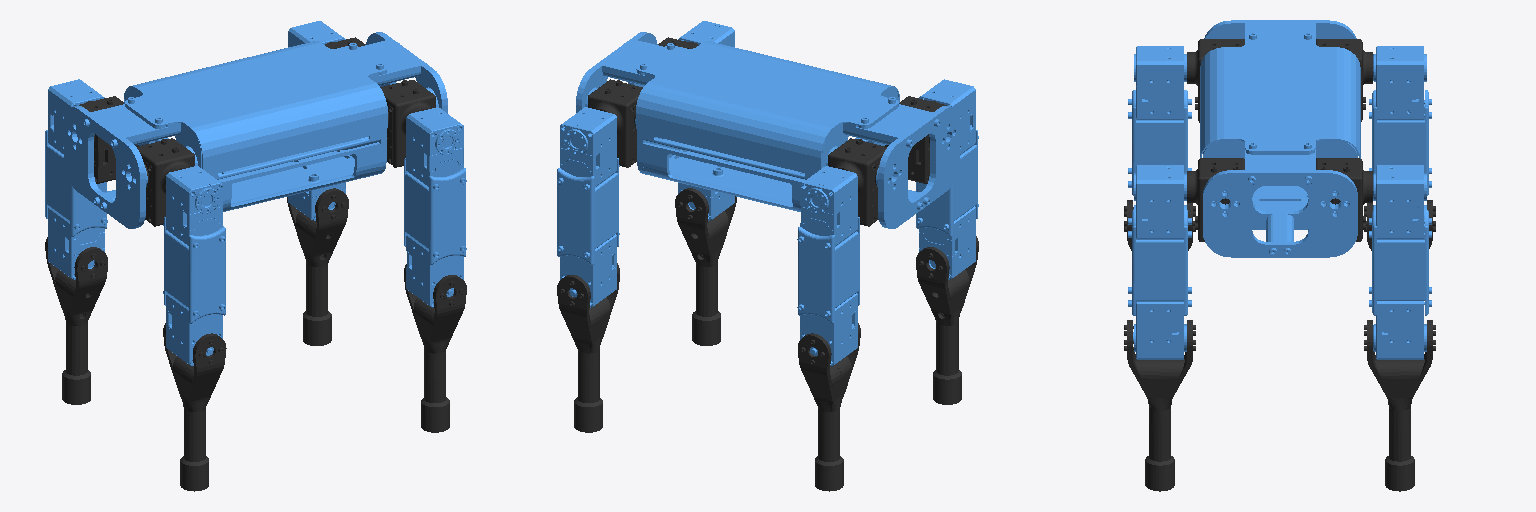
URDF robot description (spotmicro_proprio_v5):
<?xml version="1.0" encoding="utf-8"?>
<!-- This URDF was automatically created by SolidWorks to URDF Exporter! Originally created by [author] ([email redacted])
     Commit Version: 1.6.0-1-g15f4949  Build Version: 1.6.7594.29634
     For more information, please see http://wiki.ros.org/sw_urdf_exporter -->
<robot
  name="spotmicro_proprio_v5">
  <link
    name="chassis">
    <inertial>
      <origin
        xyz="-0.0004446 -6.2306E-06 0.00028704"
        rpy="0 0 0" />
      <mass
        value="0.84814" />
      <inertia
        ixx="0.0011573"
        ixy="-7.5974E-08"
        ixz="-2.7758E-07"
        iyy="0.00099291"
        iyz="1.0649E-08"
        izz="0.0015395" />
    </inertial>
    <visual>
      <origin
        xyz="0 0 0"
        rpy="0 0 0" />
      <geometry>
        <mesh
          filename="package://spotmicro_proprio_v5/meshes/chassis.STL" />
      </geometry>
     <material name="light_blue">
       <color rgba="0.4 0.7 1 1"/>
     </material>
    </visual>
    <collision>
      <origin
        xyz="0 0 0"
        rpy="0 0 0" />
      <geometry>
        <mesh
          filename="package://spotmicro_proprio_v5/meshes/chassis.STL" />
      </geometry>
    </collision>
  </link>
  <link
    name="FR_hip">
    <inertial>
      <origin
        xyz="-0.0032526 -0.0094319 0.019337"
        rpy="0 0 0" />
      <mass
        value="0.10477" />
      <inertia
        ixx="2.9556E-05"
        ixy="-1.6557E-06"
        ixz="2.1529E-11"
        iyy="1.7077E-05"
        iyz="-3.5945E-08"
        izz="2.6993E-05" />
    </inertial>
    <visual>
      <origin
        xyz="0 0 0"
        rpy="0 0 0" />
      <geometry>
        <mesh
          filename="package://spotmicro_proprio_v5/meshes/FR_hip.STL" />
      </geometry>
     <material name="grey">
       <color rgba="0.25 0.25 0.25 1"/>
     </material>
    </visual>
    <collision>
      <origin
        xyz="0 0 0"
        rpy="0 0 0" />
      <geometry>
        <mesh
          filename="package://spotmicro_proprio_v5/meshes/FR_hip.STL" />
      </geometry>
    </collision>
  </link>
  <joint
    name="FR_hip_roll"
    type="revolute">
    <origin
      xyz="0.081 -0.039 0.009"
      rpy="1.5708 0 1.5708" />
    <parent
      link="chassis" />
    <child
      link="FR_hip" />
    <axis
      xyz="0 0 -1" />
    <limit
      lower="-1.57"
      upper="1.57"
      effort="3"
      velocity="8" />
  </joint>
  <link
    name="FR_upper_leg">
    <inertial>
      <origin
        xyz="1.19898674322272E-11 -0.0589999999892911 0.0234492015158459"
        rpy="0 0 0" />
      <mass
        value="0.186407498655757" />
      <inertia
        ixx="5.87035326015844E-05"
        ixy="1.99926341478042E-14"
        ixz="1.81354376032622E-14"
        iyy="3.64527307900986E-05"
        iyz="6.79432986779939E-08"
        izz="5.00787101141682E-05" />
    </inertial>
    <visual>
      <origin
        xyz="0 0 0"
        rpy="0 0 0" />
      <geometry>
        <mesh
          filename="package://spotmicro_proprio_v5/meshes/FR_upper_leg.STL" />
      </geometry>
     <material name="light_blue">
       <color rgba="0.4 0.7 1 1"/>
     </material>
    </visual>
    <collision>
      <origin
        xyz="0 0 0"
        rpy="0 0 0" />
      <geometry>
        <mesh
          filename="package://spotmicro_proprio_v5/meshes/FR_upper_leg.STL" />
      </geometry>
    </collision>
  </link>
  <joint
    name="FR_hip_pitch"
    type="revolute">
    <origin
      xyz="-0.0226 0 0.019"
      rpy="0 -1.5708 0" />
      <!--    rpy="3.1416 -1.5708 0" />          -->
    <parent
      link="FR_hip" />
    <child
      link="FR_upper_leg" />
    <axis
      xyz="0 0 1" />
    <limit
      lower="-1.57"
      upper="1.57"
      effort="3"
      velocity="8" />
  </joint>
  <link
    name="FR_lower_leg">
    <inertial>
      <origin
        xyz="0.0237537809269848 0.0523651689541875 1.05791522791998E-07"
        rpy="0 0 0" />
      <mass
        value="0.0514314796513697" />
      <inertia
        ixx="3.95073753491517E-05"
        ixy="4.88497364958468E-06"
        ixz="-1.65219951715732E-11"
        iyy="4.30274202211496E-06"
        iyz="1.46673398826226E-10"
        izz="4.10006869878226E-05" />
    </inertial>
    <visual>
      <origin
        xyz="0 0 0"
        rpy="0 0 0" />
      <geometry>
        <mesh
          filename="package://spotmicro_proprio_v5/meshes/FR_lower_leg.STL" />
      </geometry>
     <material name="grey">
       <color rgba="0.25 0.25 0.25 1"/>
     </material>
    </visual>
    <collision>
      <origin
        xyz="0 0 0"
        rpy="0 0 0" />
      <geometry>
        <mesh
          filename="package://spotmicro_proprio_v5/meshes/FR_lower_leg.STL" />
      </geometry>
    </collision>
  </link>
  <joint
    name="FR_knee_pitch"
    type="revolute">
    <origin
      xyz="0 -0.118 0"
      rpy="0 -1.5708 3.1416" />
    <parent
      link="FR_upper_leg" />
    <child
      link="FR_lower_leg" />
    <axis
      xyz="1 0 0" />
    <limit
      lower="-2"
      upper="2"
      effort="3"
      velocity="8" />
  </joint>
  <link
    name="FL_hip">
    <inertial>
      <origin
        xyz="0.0032526 -0.0094319 0.019337"
        rpy="0 0 0" />
      <mass
        value="0.10477" />
      <inertia
        ixx="2.9556E-05"
        ixy="1.6557E-06"
        ixz="2.1561E-11"
        iyy="1.7077E-05"
        iyz="-3.5995E-08"
        izz="2.6993E-05" />
    </inertial>
    <visual>
      <origin
        xyz="0 0 0"
        rpy="0 0 0" />
      <geometry>
        <mesh
          filename="package://spotmicro_proprio_v5/meshes/FL_hip.STL" />
      </geometry>
     <material name="grey">
       <color rgba="0.25 0.25 0.25 1"/>
     </material>
    </visual>
    <collision>
      <origin
        xyz="0 0 0"
        rpy="0 0 0" />
      <geometry>
        <mesh
          filename="package://spotmicro_proprio_v5/meshes/FL_hip.STL" />
      </geometry>
    </collision>
  </link>
  <joint
    name="FL_hip_roll"
    type="revolute">
    <origin
      xyz="0.081 0.039 0.009"
      rpy="1.5708 0 1.5708" />
    <parent
      link="chassis" />
    <child
      link="FL_hip" />
    <axis
      xyz="0 0 -1" />
    <limit
      lower="-1.57"
      upper="1.57"
      effort="3"
      velocity="8" />
  </joint>
  <link
    name="FL_upper_leg">
    <inertial>
      <origin
        xyz="1.19906307105566E-11 -0.0589999999892912 0.0234492015158475"
        rpy="0 0 0" />
      <mass
        value="0.186407498655757" />
      <inertia
        ixx="5.87035326015845E-05"
        ixy="1.99926211632493E-14"
        ixz="1.81353886457592E-14"
        iyy="3.64527307900987E-05"
        iyz="6.7943298678007E-08"
        izz="5.00787101141683E-05" />
    </inertial>
    <visual>
      <origin
        xyz="0 0 0"
        rpy="0 0 0" />
      <geometry>
        <mesh
          filename="package://spotmicro_proprio_v5/meshes/FL_upper_leg.STL" />
      </geometry>
     <material name="light_blue">
       <color rgba="0.4 0.7 1 1"/>
     </material>
    </visual>
    <collision>
      <origin
        xyz="0 0 0"
        rpy="0 0 0" />
      <geometry>
        <mesh
          filename="package://spotmicro_proprio_v5/meshes/FL_upper_leg.STL" />
      </geometry>
    </collision>
  </link>
  <joint
    name="FL_hip_pitch"
    type="revolute">
    <origin
      xyz="0.0226 0 0.019"
      rpy="0 1.5708 0" />
    <parent
      link="FL_hip" />
    <child
      link="FL_upper_leg" />
    <axis
      xyz="0 0 -1" />
    <limit
      lower="-1.57"
      upper="1.57"
      effort="3"
      velocity="8" />
  </joint>
  <link
    name="FL_lower_leg">
    <inertial>
      <origin
        xyz="0.0232537809269858 -0.0523651689541877 -1.0579152302792E-07"
        rpy="0 0 0" />
      <mass
        value="0.0514314796513697" />
      <inertia
        ixx="3.95073753491516E-05"
        ixy="-4.88497364958502E-06"
        ixz="1.65219951847629E-11"
        iyy="4.30274202211505E-06"
        iyz="1.46673398866322E-10"
        izz="4.10006869878226E-05" />
    </inertial>
    <visual>
      <origin
        xyz="0 0 0"
        rpy="0 0 0" />
      <geometry>
        <mesh
          filename="package://spotmicro_proprio_v5/meshes/FL_lower_leg.STL" />
      </geometry>
     <material name="grey">
       <color rgba="0.25 0.25 0.25 1"/>
     </material>
    </visual>
    <collision>
      <origin
        xyz="0 0 0"
        rpy="0 0 0" />
      <geometry>
        <mesh
          filename="package://spotmicro_proprio_v5/meshes/FL_lower_leg.STL" />
      </geometry>
    </collision>
  </link>
  <joint
    name="FL_knee_pitch"
    type="revolute">
    <origin
      xyz="0 -0.118 0"
      rpy="3.1416 -1.5708 3.1416" />
    <parent
      link="FL_upper_leg" />
    <child
      link="FL_lower_leg" />
    <axis
      xyz="-1 0 0" />
    <limit
      lower="-2"
      upper="2"
      effort="3"
      velocity="8" />
  </joint>
  <link
    name="RR_hip">
    <inertial>
      <origin
        xyz="-0.0032526 -0.0094319 -0.023063"
        rpy="0 0 0" />
      <mass
        value="0.10477" />
      <inertia
        ixx="2.9556E-05"
        ixy="-1.6557E-06"
        ixz="2.1529E-11"
        iyy="1.7077E-05"
        iyz="-3.5945E-08"
        izz="2.6993E-05" />
    </inertial>
    <visual>
      <origin
        xyz="0 0 0"
        rpy="0 0 0" />
      <geometry>
        <mesh
          filename="package://spotmicro_proprio_v5/meshes/RR_hip.STL" />
      </geometry>
     <material name="grey">
       <color rgba="0.25 0.25 0.25 1"/>
     </material>
    </visual>
    <collision>
      <origin
        xyz="0 0 0"
        rpy="0 0 0" />
      <geometry>
        <mesh
          filename="package://spotmicro_proprio_v5/meshes/RR_hip.STL" />
      </geometry>
    </collision>
  </link>
  <joint
    name="RR_hip_roll"
    type="revolute">
    <origin
      xyz="-0.0766 -0.039 0.009"
      rpy="1.5708 0 1.5708" />
    <parent
      link="chassis" />
    <child
      link="RR_hip" />
    <axis
      xyz="0 0 -1" />
    <limit
      lower="-1.57"
      upper="1.57"
      effort="3"
      velocity="8" />
  </joint>
  <link
    name="RR_upper_leg">
    <inertial>
      <origin
        xyz="1.19898951878028E-11 -0.0589999999892923 0.023449201515846"
        rpy="0 0 0" />
      <mass
        value="0.186407498655757" />
      <inertia
        ixx="5.87035326015845E-05"
        ixy="1.99926242905013E-14"
        ixz="1.81354443822145E-14"
        iyy="3.64527307900987E-05"
        iyz="6.79432986779969E-08"
        izz="5.00787101141683E-05" />
    </inertial>
    <visual>
      <origin
        xyz="0 0 0"
        rpy="0 0 0" />
      <geometry>
        <mesh
          filename="package://spotmicro_proprio_v5/meshes/RR_upper_leg.STL" />
      </geometry>
     <material name="light_blue">
       <color rgba="0.4 0.7 1 1"/>
     </material>
    </visual>
    <collision>
      <origin
        xyz="0 0 0"
        rpy="0 0 0" />
      <geometry>
        <mesh
          filename="package://spotmicro_proprio_v5/meshes/RR_upper_leg.STL" />
      </geometry>
    </collision>
  </link>
  <joint
    name="RR_hip_pitch"
    type="revolute">
    <origin
      xyz="-0.0226 0 -0.0234"
      rpy="0 -1.5708 0" />
    <parent
      link="RR_hip" />
    <child
      link="RR_upper_leg" />
    <axis
      xyz="0 0 1" />
    <limit
      lower="-1.57"
      upper="1.57"
      effort="3"
      velocity="8" />
  </joint>
  <link
    name="RR_lower_leg">
    <inertial>
      <origin
        xyz="0.0237537809269848 0.0523651689541875 1.0579152277812E-07"
        rpy="0 0 0" />
      <mass
        value="0.0514314796513697" />
      <inertia
        ixx="3.95073753491517E-05"
        ixy="4.88497364958468E-06"
        ixz="-1.65219951719277E-11"
        iyy="4.30274202211496E-06"
        iyz="1.46673398821205E-10"
        izz="4.10006869878226E-05" />
    </inertial>
    <visual>
      <origin
        xyz="0 0 0"
        rpy="0 0 0" />
      <geometry>
        <mesh
          filename="package://spotmicro_proprio_v5/meshes/RR_lower_leg.STL" />
      </geometry>
     <material name="grey">
       <color rgba="0.25 0.25 0.25 1"/>
     </material>
    </visual>
    <collision>
      <origin
        xyz="0 0 0"
        rpy="0 0 0" />
      <geometry>
        <mesh
          filename="package://spotmicro_proprio_v5/meshes/RR_lower_leg.STL" />
      </geometry>
    </collision>
  </link>
  <joint
    name="RR_knee_pitch"
    type="revolute">
    <origin
      xyz="0 -0.118 0"
      rpy="0 -1.5708 3.1416" />
    <parent
      link="RR_upper_leg" />
    <child
      link="RR_lower_leg" />
    <axis
      xyz="1 0 0" />
    <limit
      lower="-2"
      upper="2"
      effort="3"
      velocity="8" />
  </joint>
  <link
    name="RL_hip">
    <inertial>
      <origin
        xyz="0.0032526 -0.0094319 -0.023063"
        rpy="0 0 0" />
      <mass
        value="0.10477" />
      <inertia
        ixx="2.9556E-05"
        ixy="1.6557E-06"
        ixz="2.1529E-11"
        iyy="1.7077E-05"
        iyz="-3.5995E-08"
        izz="2.6993E-05" />
    </inertial>
    <visual>
      <origin
        xyz="0 0 0"
        rpy="0 0 0" />
      <geometry>
        <mesh
          filename="package://spotmicro_proprio_v5/meshes/RL_hip.STL" />
      </geometry>
     <material name="grey">
       <color rgba="0.25 0.25 0.25 1"/>
     </material>
    </visual>
    <collision>
      <origin
        xyz="0 0 0"
        rpy="0 0 0" />
      <geometry>
        <mesh
          filename="package://spotmicro_proprio_v5/meshes/RL_hip.STL" />
      </geometry>
    </collision>
  </link>
  <joint
    name="RL_hip_roll"
    type="revolute">
    <origin
      xyz="-0.0766 0.039 0.009"
      rpy="1.5708 0 1.5708" />
    <parent
      link="chassis" />
    <child
      link="RL_hip" />
    <axis
      xyz="0 0 -1" />
    <limit
      lower="-1.57"
      upper="1.57"
      effort="3"
      velocity="8" />
  </joint>
  <link
    name="RL_upper_leg">
    <inertial>
      <origin
        xyz="1.19905613216176E-11 -0.0589999999892911 0.0234492015158476"
        rpy="0 0 0" />
      <mass
        value="0.186407498655757" />
      <inertia
        ixx="5.87035326015845E-05"
        ixy="1.99926203604365E-14"
        ixz="1.81354103273646E-14"
        iyy="3.64527307900987E-05"
        iyz="6.79432986779987E-08"
        izz="5.00787101141684E-05" />
    </inertial>
    <visual>
      <origin
        xyz="0 0 0"
        rpy="0 0 0" />
      <geometry>
        <mesh
          filename="package://spotmicro_proprio_v5/meshes/RL_upper_leg.STL" />
      </geometry>
     <material name="light_blue">
       <color rgba="0.4 0.7 1 1"/>
     </material>
    </visual>
    <collision>
      <origin
        xyz="0 0 0"
        rpy="0 0 0" />
      <geometry>
        <mesh
          filename="package://spotmicro_proprio_v5/meshes/RL_upper_leg.STL" />
      </geometry>
    </collision>
  </link>
  <joint
    name="RL_hip_pitch"
    type="revolute">
    <origin
      xyz="0.0226 0 -0.0234"
      rpy="0 1.5708 0" />
    <parent
      link="RL_hip" />
    <child
      link="RL_upper_leg" />
    <axis
      xyz="0 0 -1" />
    <limit
      lower="-1.57"
      upper="1.57"
      effort="3"
      velocity="8" />
  </joint>
  <link
    name="RL_lower_leg">
    <inertial>
      <origin
        xyz="0.0232537809269859 -0.0523651689541877 -1.05791522944654E-07"
        rpy="0 0 0" />
      <mass
        value="0.0514314796513697" />
      <inertia
        ixx="3.95073753491516E-05"
        ixy="-4.88497364958502E-06"
        ixz="1.65219951823521E-11"
        iyy="4.30274202211505E-06"
        iyz="1.46673398858172E-10"
        izz="4.10006869878226E-05" />
    </inertial>
    <visual>
      <origin
        xyz="0 0 0"
        rpy="0 0 0" />
      <geometry>
        <mesh
          filename="package://spotmicro_proprio_v5/meshes/RL_lower_leg.STL" />
      </geometry>
     <material name="grey">
       <color rgba="0.25 0.25 0.25 1"/>
     </material>
    </visual>
    <collision>
      <origin
        xyz="0 0 0"
        rpy="0 0 0" />
      <geometry>
        <mesh
          filename="package://spotmicro_proprio_v5/meshes/RL_lower_leg.STL" />
      </geometry>
    </collision>
  </link>
  <joint
    name="RL_knee_pitch"
    type="revolute">
    <origin
      xyz="0 -0.118 0"
      rpy="3.1416 -1.5708 3.1416" />
    <parent
      link="RL_upper_leg" />
    <child
      link="RL_lower_leg" />
    <axis
      xyz="-1 0 0" />
    <limit
      lower="-2"
      upper="2"
      effort="3"
      velocity="8" />
  </joint>
</robot>

--- What the picture shows (computed from the rendered views, not written in the file) ---
The picture shows the robot from 3 angles, left to right: view 1: azimuth 30°, elevation 25°; view 2: azimuth 150°, elevation 25°; view 3: azimuth 270°, elevation 25°; orthographic projection.
Robot: spotmicro_proprio_v5 — 13 links, 12 joints (12 revolute); root link chassis; default pose: all joints at 0.
Visible links, largest first — view 1: chassis, FR_upper_leg, RR_upper_leg, RL_upper_leg, RL_lower_leg, RR_lower_leg, FR_lower_leg, FL_lower_leg, RR_hip, FR_hip, FL_upper_leg, RL_hip; view 2: chassis, RL_upper_leg, FL_upper_leg, RR_upper_leg, RR_lower_leg, FL_lower_leg, RL_lower_leg, FR_lower_leg, RL_hip, FL_hip, FR_upper_leg, RR_hip; view 3: chassis, FL_upper_leg, FR_upper_leg, RL_upper_leg, RR_upper_leg, FR_lower_leg, FL_lower_leg, FR_hip, FL_hip, RR_hip, RL_hip.
Link boxes in pixels (box(x1,y1,x2,y2)): chassis: box(64, 32, 447, 228); FR_upper_leg: box(404, 107, 466, 307); RR_upper_leg: box(163, 166, 225, 365); RL_upper_leg: box(45, 79, 107, 279); RL_lower_leg: box(45, 237, 107, 404); RR_lower_leg: box(163, 323, 226, 491); FR_lower_leg: box(404, 264, 466, 432); FL_lower_leg: box(287, 188, 348, 345); RR_hip: box(137, 138, 194, 226); FR_hip: box(380, 80, 435, 167); FL_upper_leg: box(288, 21, 345, 220); RL_hip: box(79, 96, 138, 183); chassis: box(576, 32, 959, 228); RL_upper_leg: box(797, 166, 859, 366); FL_upper_leg: box(557, 107, 619, 307); RR_upper_leg: box(916, 79, 978, 279); RR_lower_leg: box(916, 236, 978, 404); FL_lower_leg: box(557, 263, 619, 432); RL_lower_leg: box(798, 323, 860, 491); FR_lower_leg: box(675, 188, 736, 345); RL_hip: box(828, 138, 886, 226); FL_hip: box(588, 79, 642, 167); FR_upper_leg: box(678, 21, 734, 220); RR_hip: box(885, 96, 946, 183); chassis: box(1200, 20, 1360, 257); FL_upper_leg: box(1369, 165, 1431, 359); FR_upper_leg: box(1128, 165, 1191, 359); RL_upper_leg: box(1369, 46, 1431, 223); RR_upper_leg: box(1128, 46, 1191, 208); FR_lower_leg: box(1124, 320, 1195, 491); FL_lower_leg: box(1364, 320, 1435, 491); FR_hip: box(1187, 158, 1244, 241); FL_hip: box(1316, 158, 1372, 241); RR_hip: box(1187, 39, 1244, 122); RL_hip: box(1316, 39, 1372, 121).
Size in the robot's own frame: 0.262 by 0.2205 by 0.266 metres.
13 mesh visuals loaded from 13 distinct referenced files (13 binary STL).